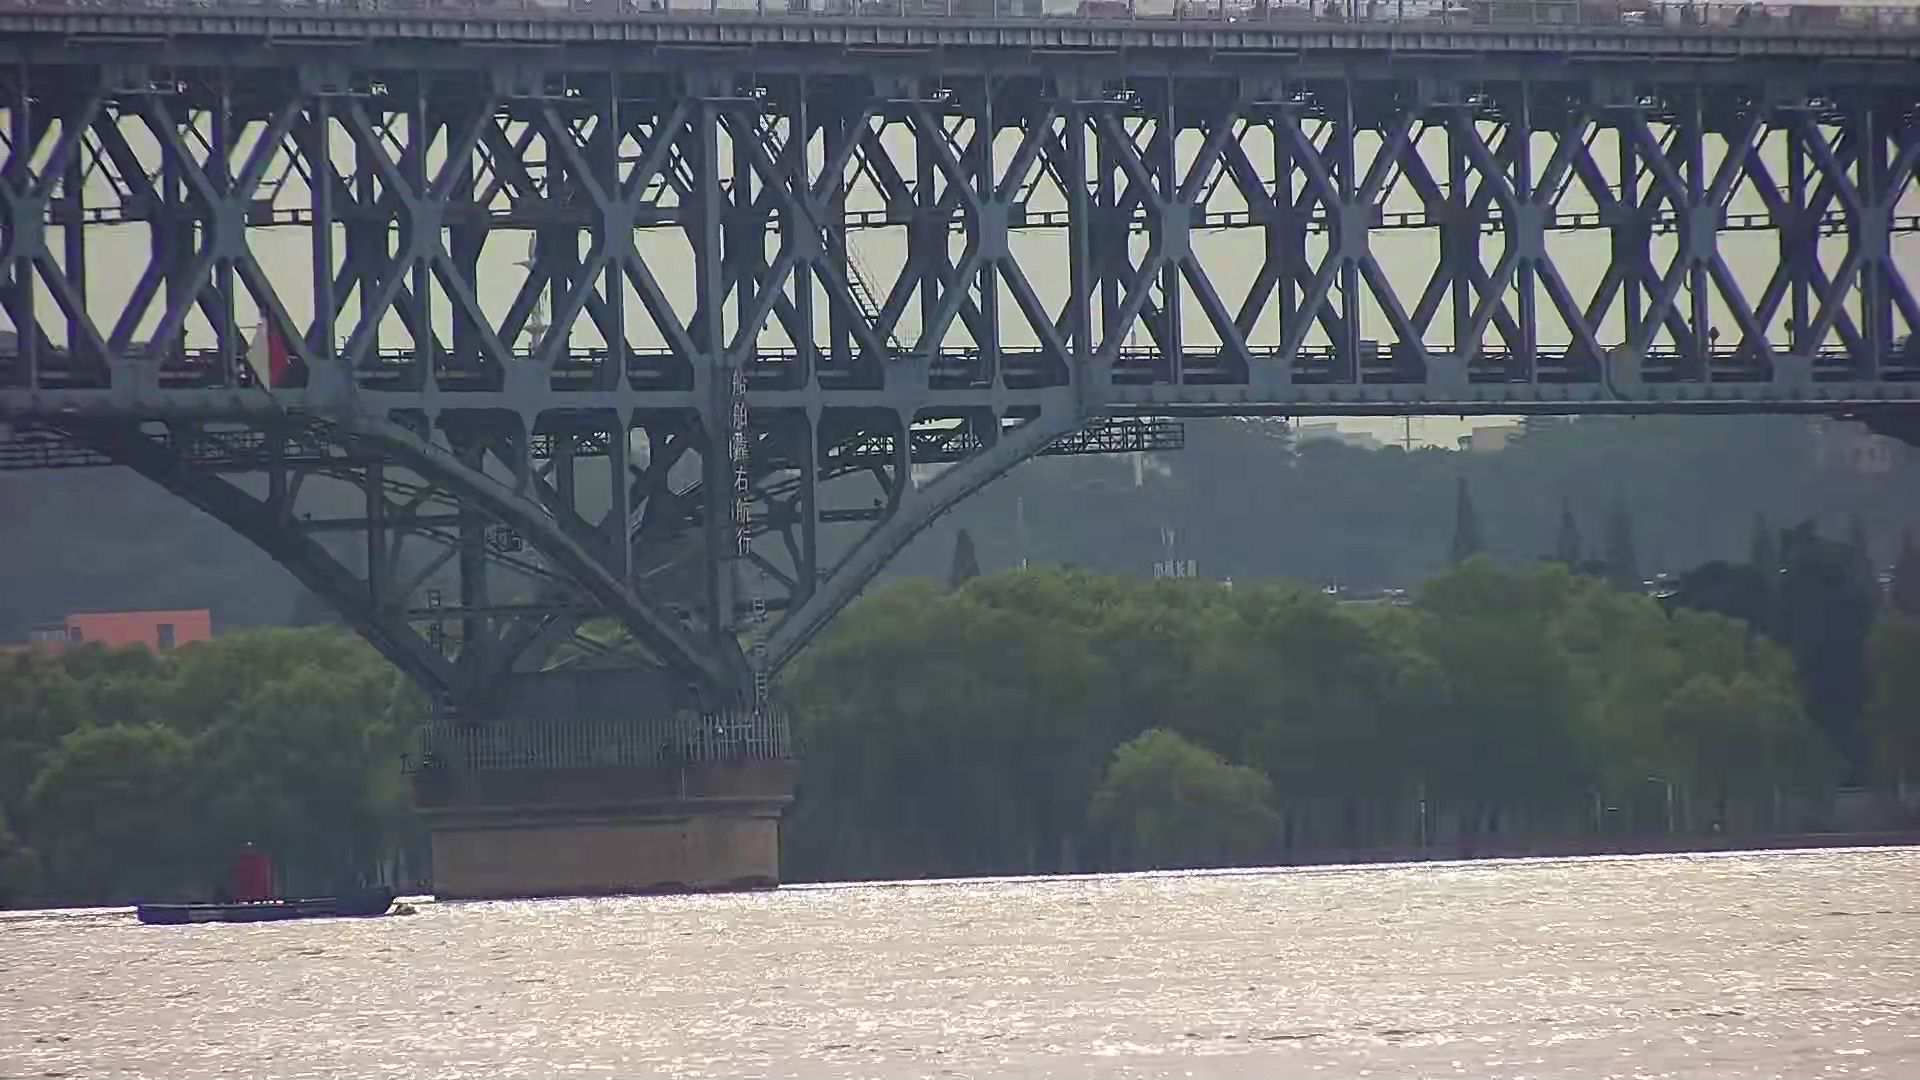boat: (125, 836, 396, 926)
bridge: (1, 1, 1904, 915)
